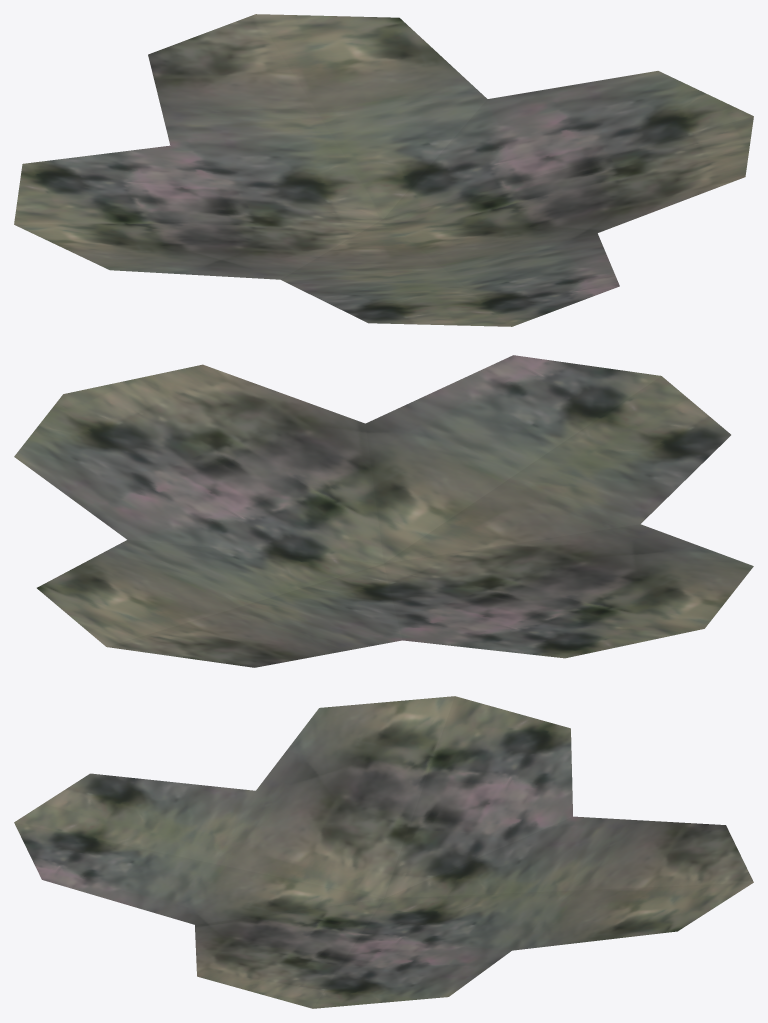
File: TheOctagon_Floor_1_Roof.005.gltf
3 views of the same model, one above another, from view 1: azimuth 30°, elevation 25°; view 2: azimuth 150°, elevation 25°; view 3: azimuth 270°, elevation 25° (orthographic). The views are drawn at different scales.
Visible parts, largest first — view 1: TheOctagon_Floor_1_Roof.005; view 2: TheOctagon_Floor_1_Roof.005; view 3: TheOctagon_Floor_1_Roof.005.
Part boxes in pixels (x1,y1,x2,y2): TheOctagon_Floor_1_Roof.005: [14, 14, 753, 326]; TheOctagon_Floor_1_Roof.005: [14, 355, 753, 667]; TheOctagon_Floor_1_Roof.005: [14, 696, 753, 1008].
Size of the model in its own units: 29.22 by 2.02 by 29.22.
1 material, 1 textured.
